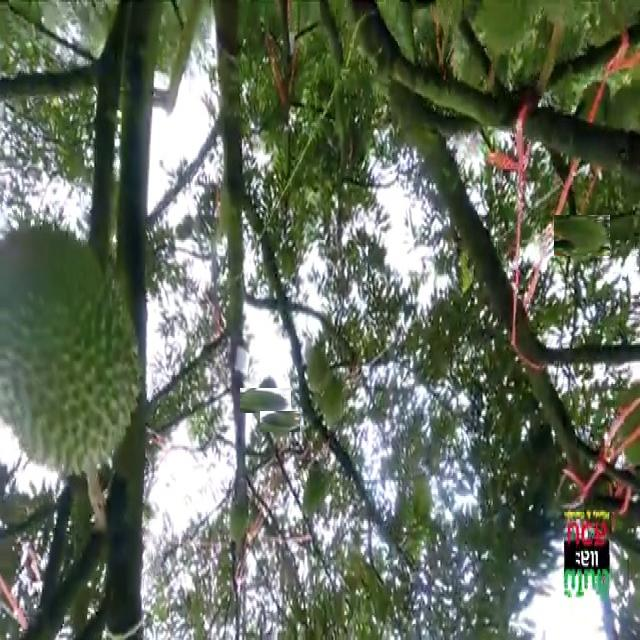durian: (2, 214, 143, 483), (558, 212, 606, 260), (302, 342, 334, 398), (316, 377, 345, 431), (246, 381, 285, 419), (227, 498, 251, 544), (264, 406, 295, 438)
